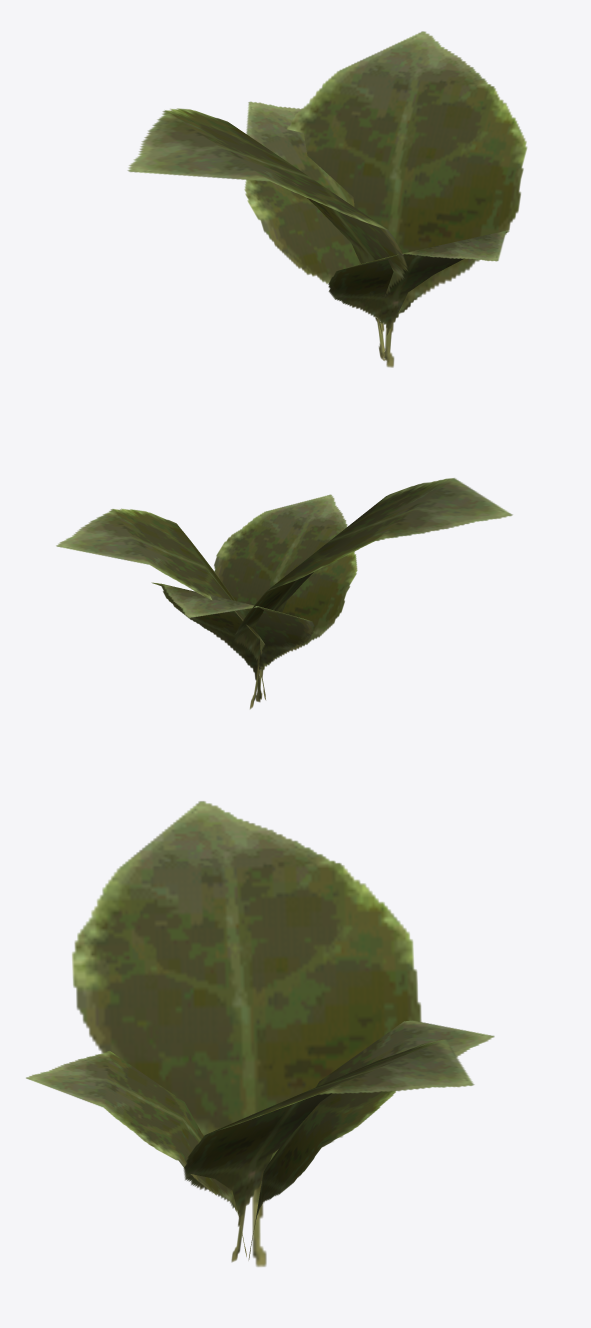
Rendered from bush51.glb.
3 renders of one model, top to bottom at view 1: azimuth 30°, elevation 25°; view 2: azimuth 150°, elevation 25°; view 3: azimuth 270°, elevation 25°, orthographic. The views are drawn at different scales.
Parts seen in each view (by area): view 1: bush51; view 2: bush51; view 3: bush51.
Boxes of the visible parts, <box> form: bush51: <box>127,31,527,367</box>; bush51: <box>56,478,512,709</box>; bush51: <box>26,801,494,1266</box>.
Size of the model in its own units: 1.58 by 0.804 by 1.29.
Materials: 1 (1 with a texture image).
